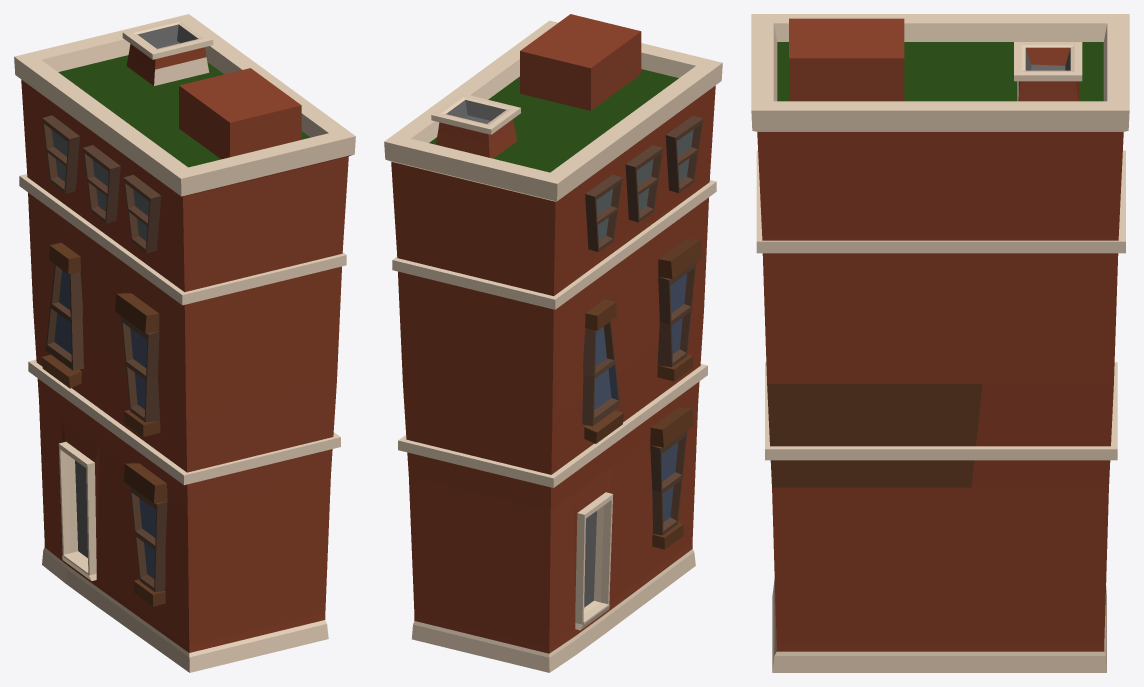
Rendered from Villa.fbx.
3 views of the same model, side by side, from view 1: azimuth 30°, elevation 25°; view 2: azimuth 150°, elevation 25°; view 3: azimuth 270°, elevation 25° (orthographic). The views are drawn at different scales.
Visible parts, largest first — view 1: Cube.003; view 2: Cube.003; view 3: Cube.003.
Boxes of the visible parts, x1,y1,x2,y2 form: Cube.003: (14, 14, 355, 672); Cube.003: (384, 14, 722, 672); Cube.003: (751, 14, 1129, 672).
Size of the model in its own units: 88.46 by 247 by 140.
